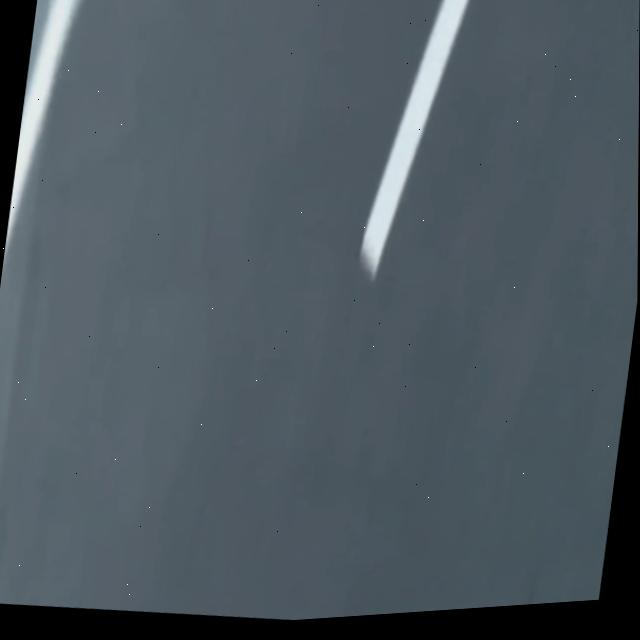center: (360, 0, 467, 277)
left: (3, 0, 78, 263)
